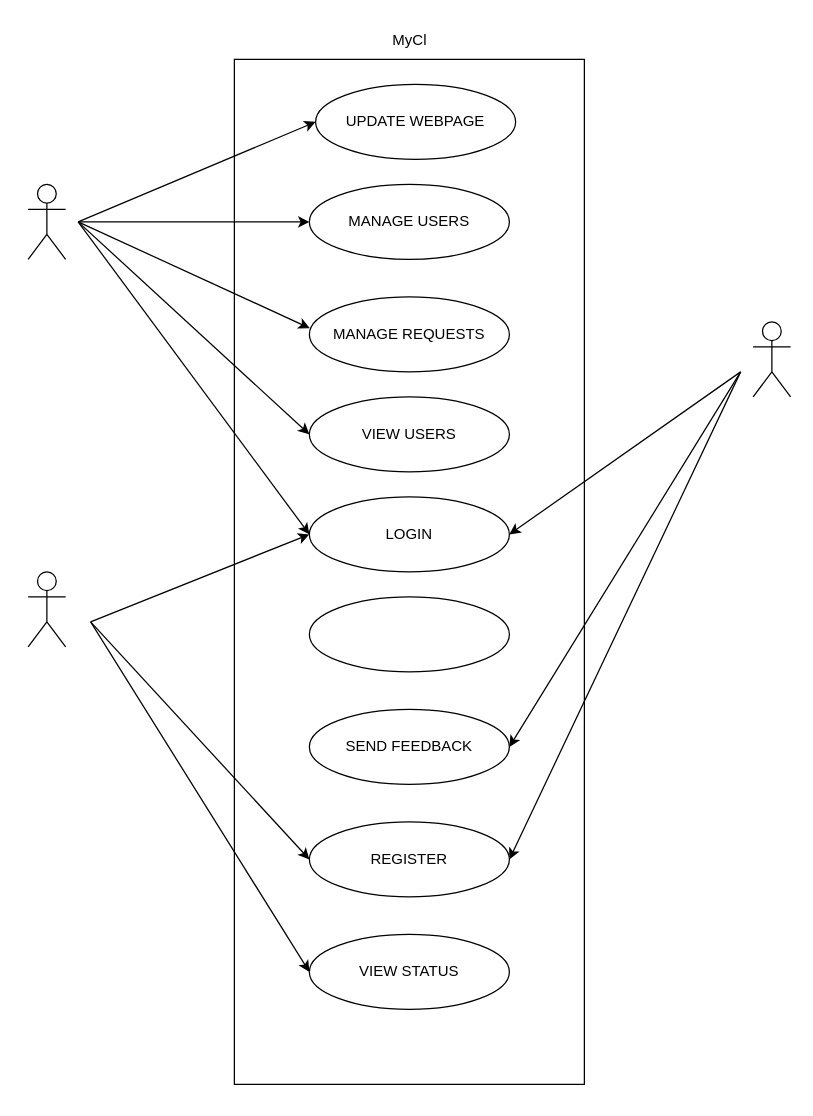
Image size: 813x1116. Some labels were removed from this diagram. The centre of each missing label's shape, as x and y in pixels:
Admin: [46,221]
College: [46,609]
SEARCH COLLEGE: [408,634]
User: [771,359]
